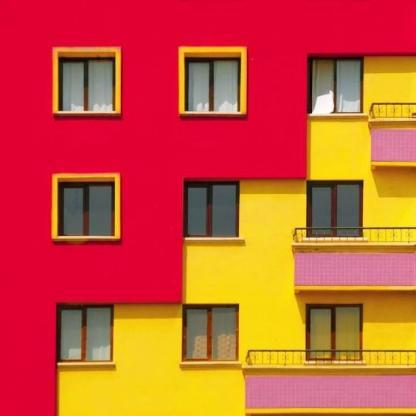Balcony: (245, 350, 415, 414), (295, 228, 415, 289), (371, 103, 416, 165)
Building Outline: (0, 0, 416, 416)
Facade: (0, 0, 416, 416)
Floor: (0, 0, 415, 158), (0, 289, 415, 406), (0, 165, 415, 282)
Floor Slab: (0, 282, 415, 289), (0, 158, 415, 165), (0, 406, 415, 412)
Window: (305, 305, 363, 362), (56, 305, 114, 362), (182, 305, 240, 362), (58, 181, 115, 238), (307, 56, 363, 114), (307, 180, 363, 237), (183, 180, 239, 237), (58, 56, 115, 111), (185, 56, 241, 111)
